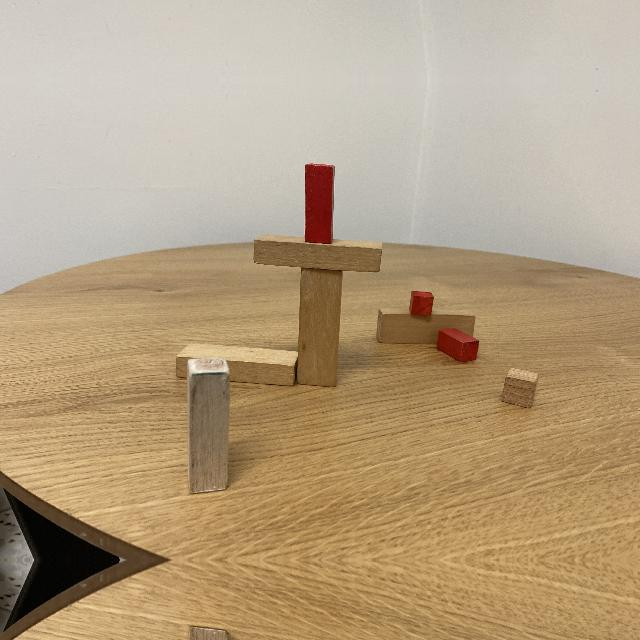block: (187, 356, 229, 496)
cube: (500, 368, 538, 408)
jenga: (177, 342, 299, 384), (254, 234, 384, 272), (298, 267, 339, 387), (375, 311, 475, 345)
red block: (304, 163, 334, 241), (437, 328, 479, 362)
red cube: (411, 289, 433, 319)
